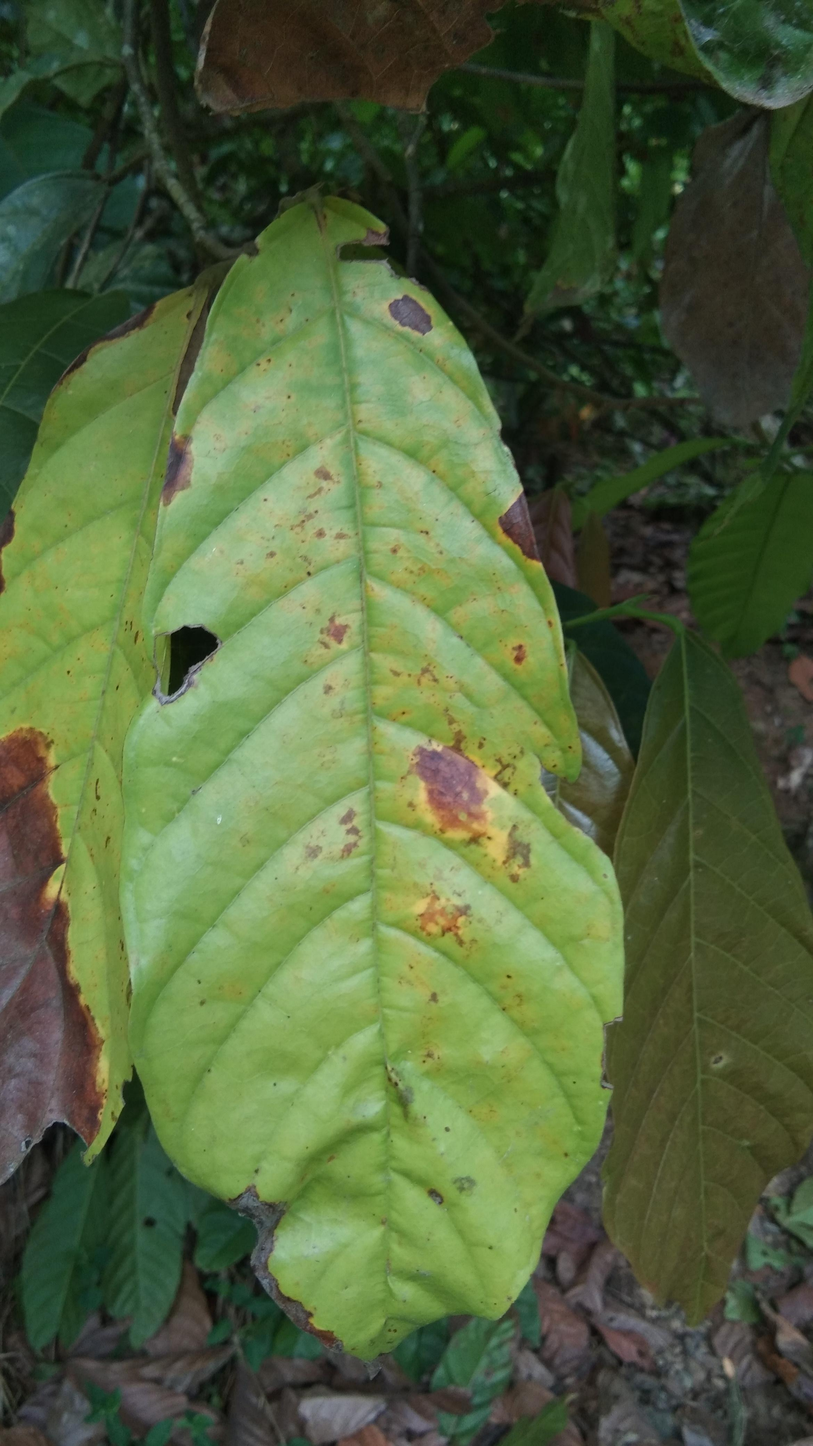deficiencia_potasio: (115, 188, 629, 1359)
